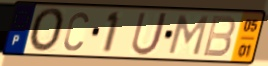1: (101, 11, 122, 55)
B: (200, 14, 237, 59)
C: (62, 10, 91, 53)
M: (166, 13, 211, 57)
O: (28, 6, 67, 54)
U: (129, 11, 170, 58)
